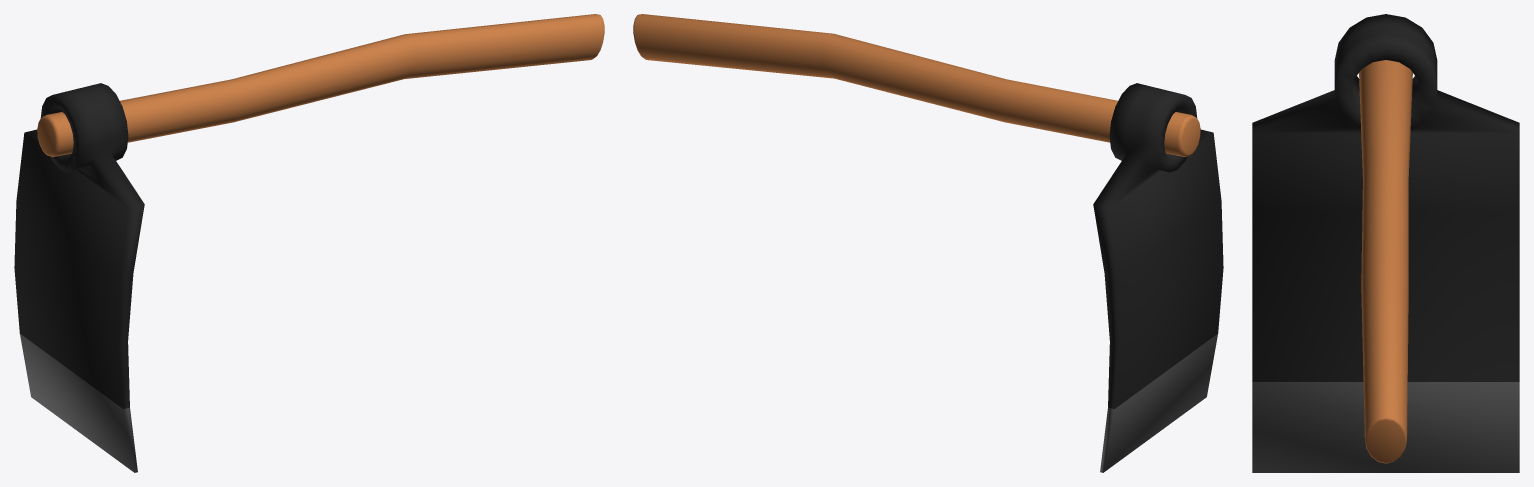
File: cangkul.glb
The picture shows the model from 3 angles, left to right: view 1: azimuth 30°, elevation 25°; view 2: azimuth 150°, elevation 25°; view 3: azimuth 270°, elevation 25°; orthographic projection. The views are drawn at different scales.
Visible parts, largest first — view 1: besi, gagang; view 2: besi, gagang; view 3: besi, gagang.
Part boxes in pixels (x1,y1,x2,y2): besi: [14, 83, 144, 472]; gagang: [37, 14, 604, 156]; besi: [1093, 83, 1223, 472]; gagang: [633, 14, 1200, 156]; besi: [1252, 14, 1519, 472]; gagang: [1359, 60, 1412, 463].
Bounding box in the file's own units: 0.5602 × 0.3307 × 0.1811.
